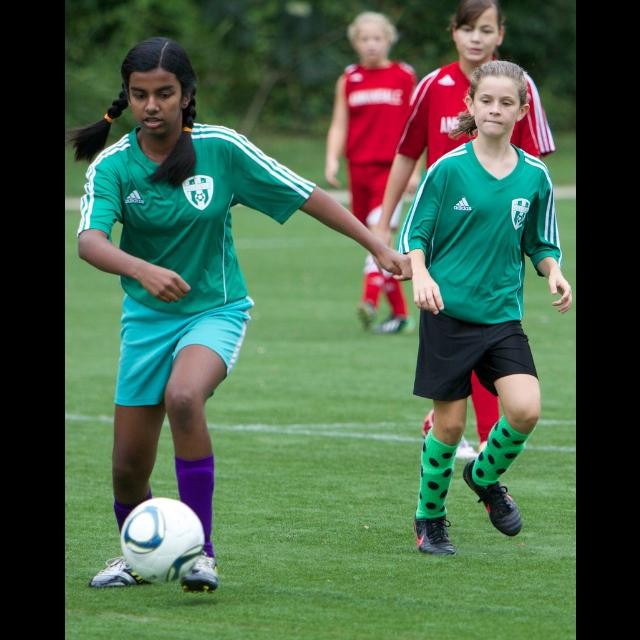Football: (116, 494, 206, 588)
